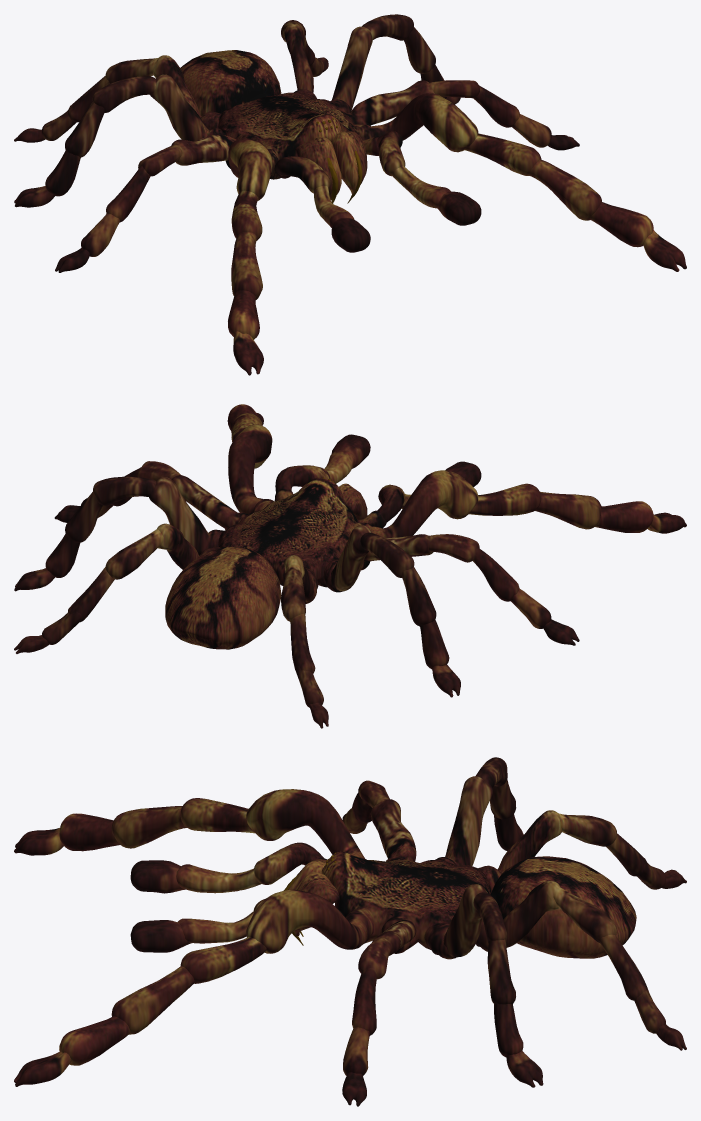
File: tarantula.glb
3 renders of one model, top to bottom at view 1: azimuth 30°, elevation 25°; view 2: azimuth 150°, elevation 25°; view 3: azimuth 270°, elevation 25°, orthographic. The views are drawn at different scales.
Visible parts, largest first — view 1: 3DSMeshMatrix; view 2: 3DSMeshMatrix; view 3: 3DSMeshMatrix.
Boxes of the visible parts, left/top/right/bottom form: 3DSMeshMatrix: left=14, top=14, right=686, bottom=375; 3DSMeshMatrix: left=14, top=404, right=686, bottom=728; 3DSMeshMatrix: left=14, top=757, right=686, bottom=1106.
Size of the model in its own units: 6393 by 1426 by 6373.
2 materials, 1 textured.
